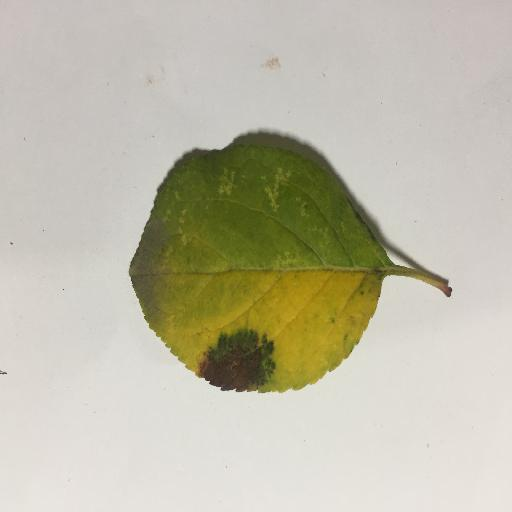Brown_Spot: (189, 330, 272, 392)
